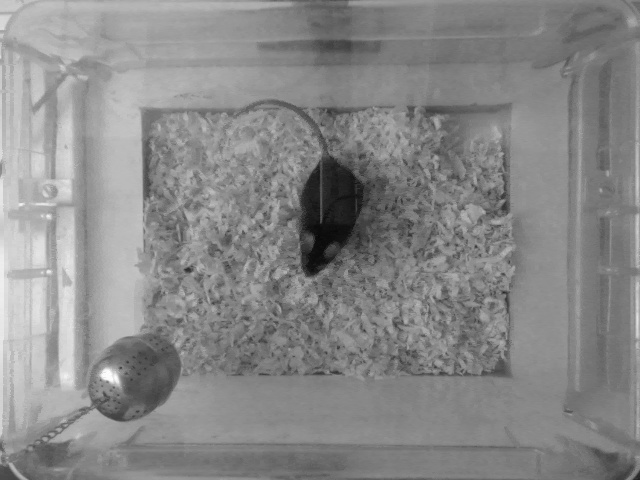mice: (230, 97, 368, 281)
